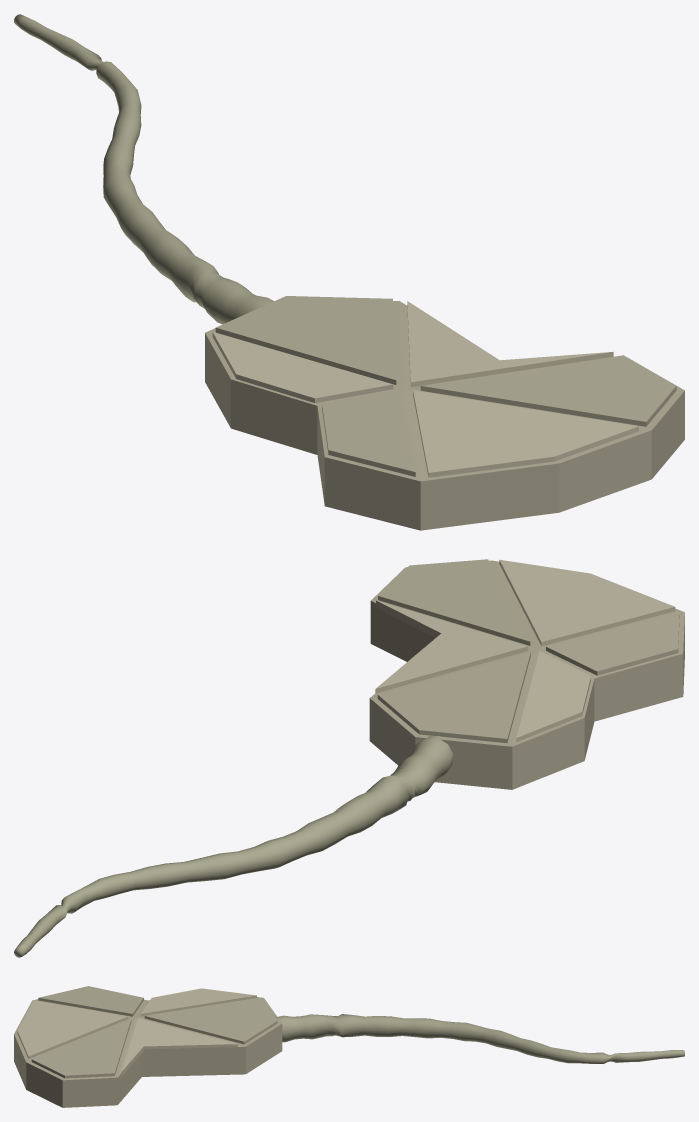
Rendered from cothurnocystis.glb.
The picture shows the model from 3 angles, top to bottom: view 1: azimuth 30°, elevation 25°; view 2: azimuth 150°, elevation 25°; view 3: azimuth 270°, elevation 25°; orthographic projection. The views are drawn at different scales.
Parts seen in each view (by area): view 1: broad-interlocking-plate-fields-inset-relief-not-ball-patter, original-asymmetric-flattened-boot-shaped-theca, single-long-curved-segmented-appendage-connected-to-boot-bas; view 2: broad-interlocking-plate-fields-inset-relief-not-ball-patter, original-asymmetric-flattened-boot-shaped-theca, single-long-curved-segmented-appendage-connected-to-boot-bas; view 3: broad-interlocking-plate-fields-inset-relief-not-ball-patter, original-asymmetric-flattened-boot-shaped-theca, single-long-curved-segmented-appendage-connected-to-boot-bas.
Part boxes in pixels (x1,y1,x2,y2): broad-interlocking-plate-fields-inset-relief-not-ball-patter: [212, 296, 676, 477]; original-asymmetric-flattened-boot-shaped-theca: [205, 301, 684, 530]; single-long-curved-segmented-appendage-connected-to-boot-bas: [14, 14, 273, 324]; broad-interlocking-plate-fields-inset-relief-not-ball-patter: [375, 559, 679, 743]; original-asymmetric-flattened-boot-shaped-theca: [369, 560, 684, 789]; single-long-curved-segmented-appendage-connected-to-boot-bas: [14, 736, 453, 957]; broad-interlocking-plate-fields-inset-relief-not-ball-patter: [17, 986, 277, 1078]; original-asymmetric-flattened-boot-shaped-theca: [14, 997, 282, 1107]; single-long-curved-segmented-appendage-connected-to-boot-bas: [275, 1014, 684, 1063].
Size of the model in its own units: 0.0262 by 0.00434 by 0.08.
